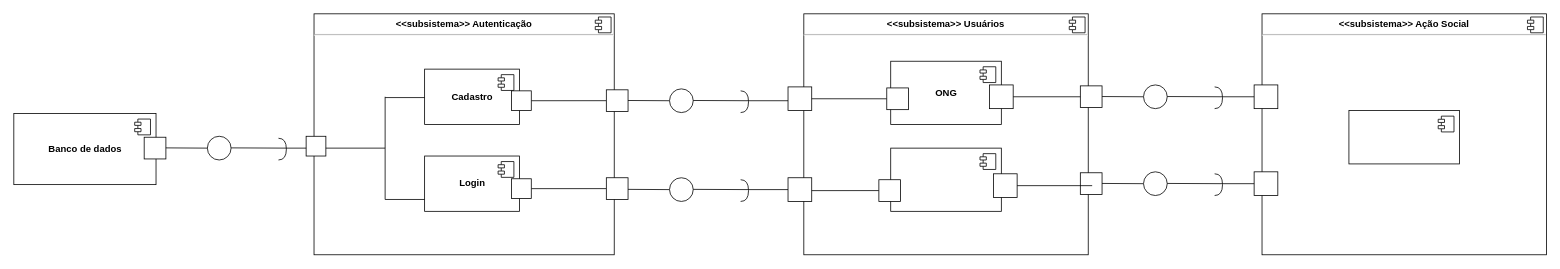
The diagram is 1560 pixels wide and 269 high, and some of its shapes have lost their labels. The centre of each missing label's shape, as x and y in pixels:
Doador: point 945,179
Doação: point 1404,137
